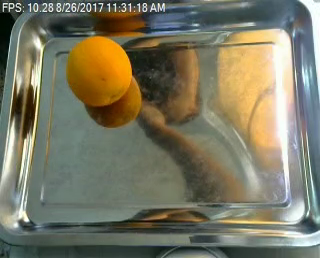Orange: (66, 36, 132, 105)
